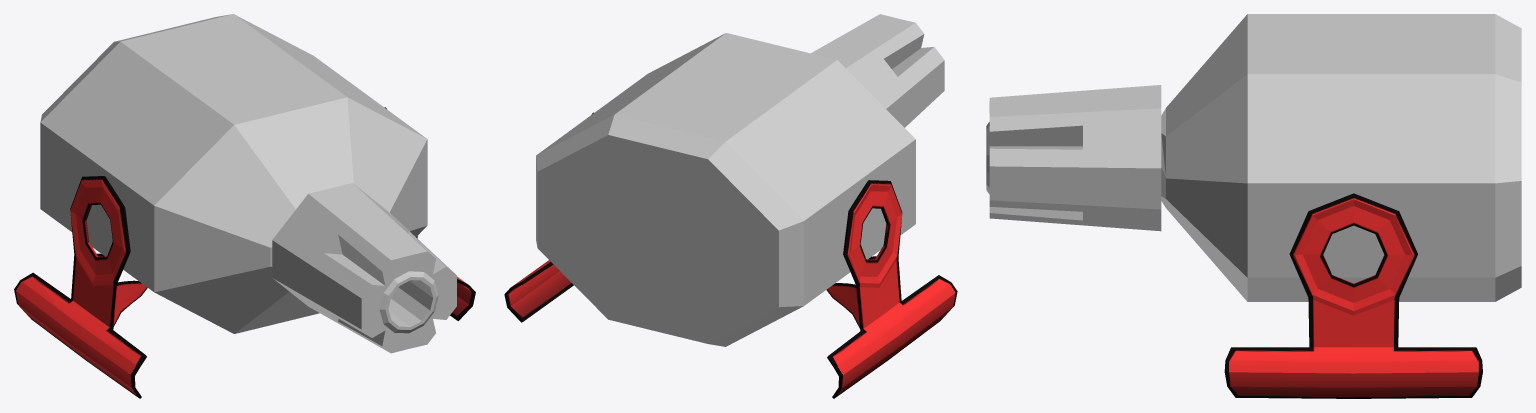
The model's file is taihou.FBX.
The picture shows the model from 3 angles, left to right: view 1: azimuth 30°, elevation 25°; view 2: azimuth 150°, elevation 25°; view 3: azimuth 270°, elevation 25°; orthographic projection. The views are drawn at different scales.
Parts seen in each view (by area): view 1: オブジェクト01, オブジェクト02; view 2: オブジェクト01, オブジェクト02; view 3: オブジェクト01, オブジェクト02.
Boxes of the visible parts, x1,y1,x2,y2 form: オブジェクト01: [40, 14, 456, 353]; オブジェクト02: [14, 107, 475, 398]; オブジェクト01: [536, 14, 944, 346]; オブジェクト02: [504, 112, 957, 398]; オブジェクト01: [986, 14, 1521, 301]; オブジェクト02: [1224, 193, 1482, 398].
Size of the model in its own units: 35.69 by 24.47 by 44.22.
